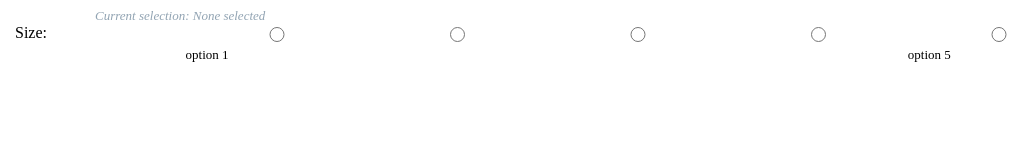
Test case: starBreakdown › should render the selected option
Click the radio button with test id "option-3" at (638, 34), box x1=552 y1=27 x2=724 y2=42
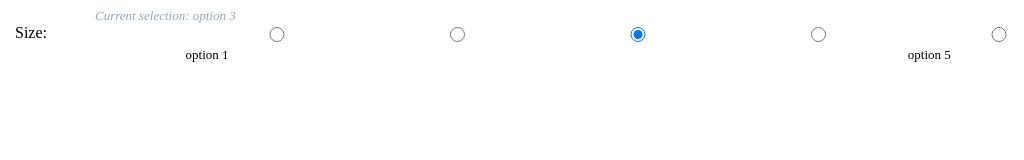
expect the text "Current selection: option 3" is shown: met, box x1=95 y1=8 x2=236 y2=23
